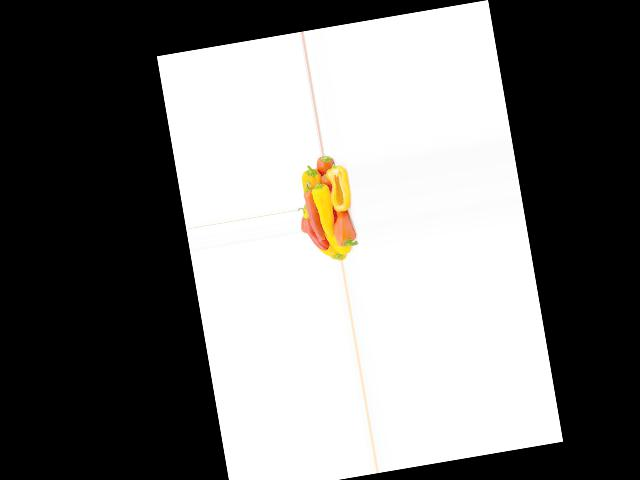bell_pepper: (311, 153, 337, 187)
